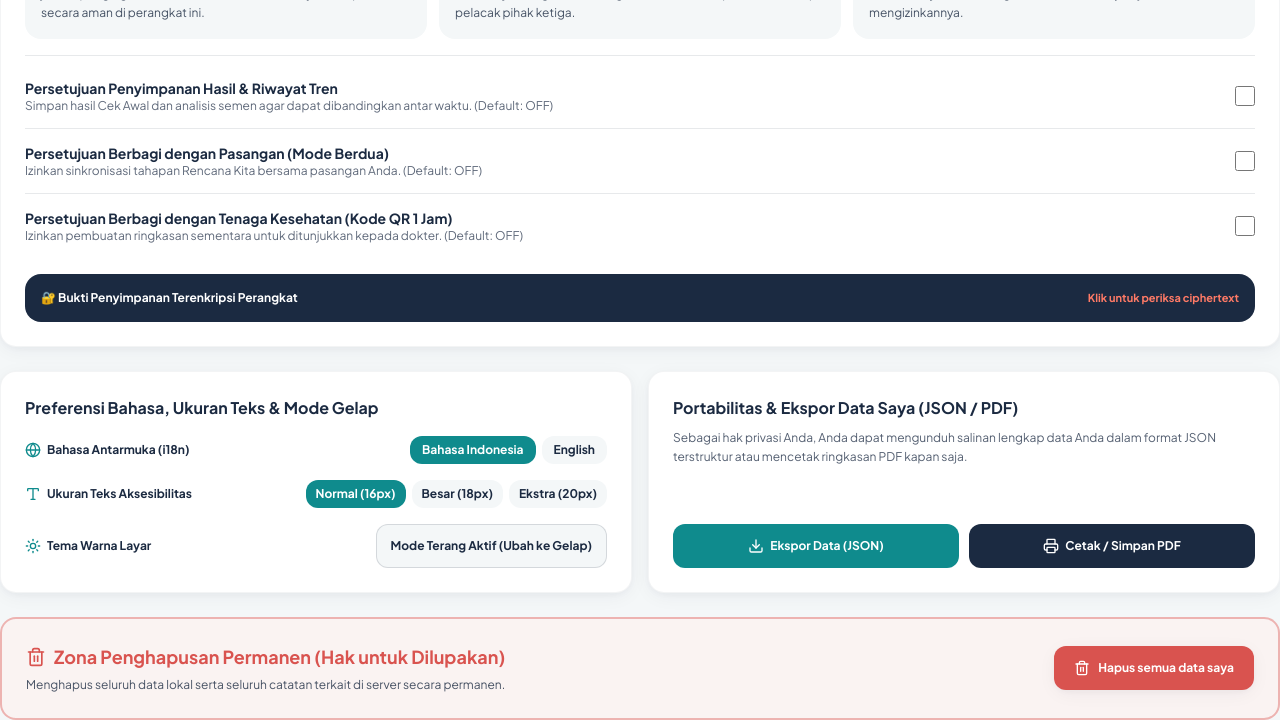
Test case: Uji Alur Utama, Privasi & Aksesibilitas Dasar (Side by Side) › Alur 4: Enkripsi Web Crypto AES-GCM & Tombol "Hapus semua data saya" dengan konfirmasi 2 langkah
(page scrolled)
Note: Langkah 1 konfirmasi
Click the button "Hapus semua data saya" at {"x": 1154, "y": 668}, box [1054, 646, 1254, 690]
(page scrolled)
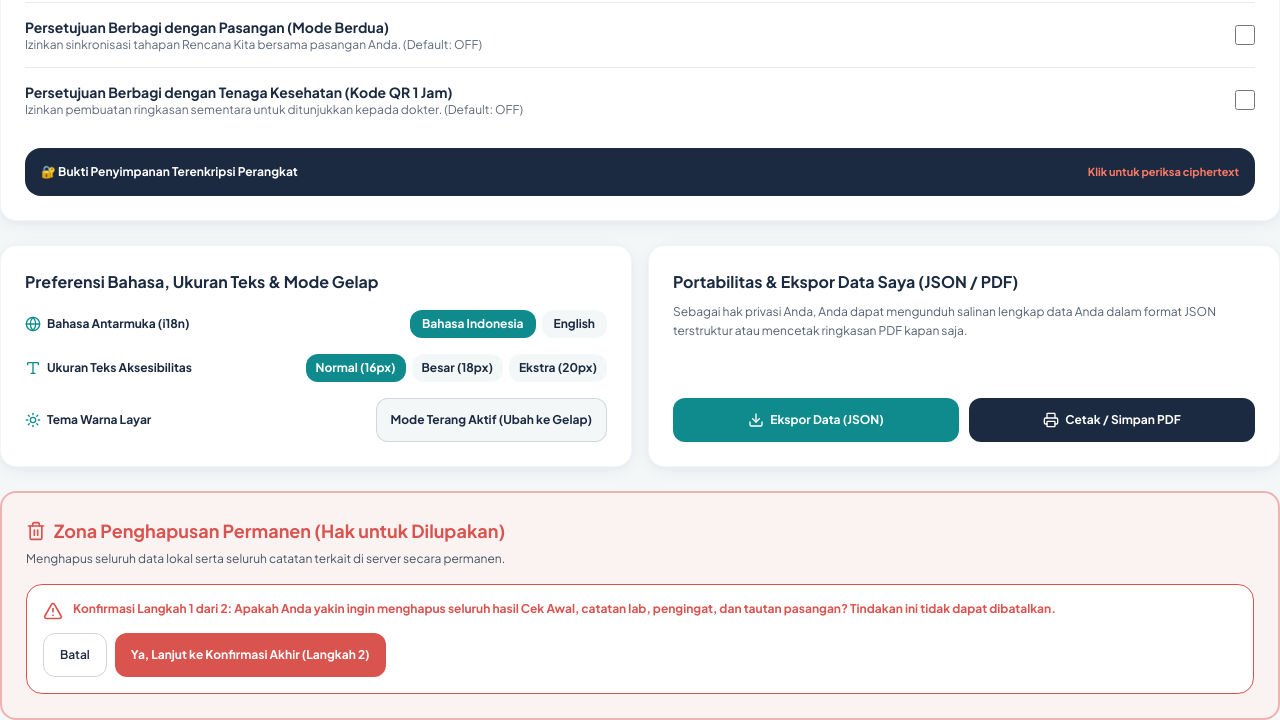
Check: the button "Ya, Lanjut ke Konfirmasi Akhir (Langkah 2)" is shown
Note: Langkah 2 konfirmasi
Click the button "Ya, Lanjut ke Konfirmasi Akhir (Langkah 2)" at {"x": 250, "y": 655}, box [115, 633, 386, 677]
(page scrolled)
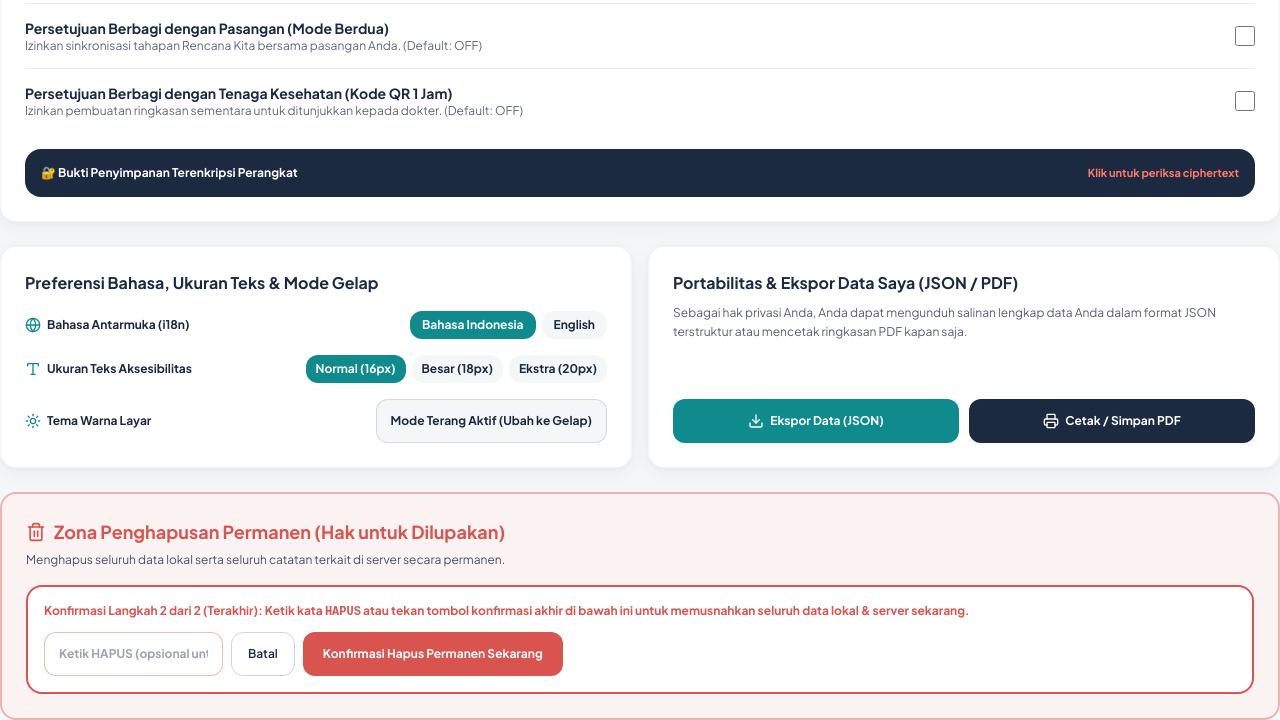
Check: the button "Konfirmasi Hapus Permanen Sekarang" is shown, box [303, 632, 563, 676]
